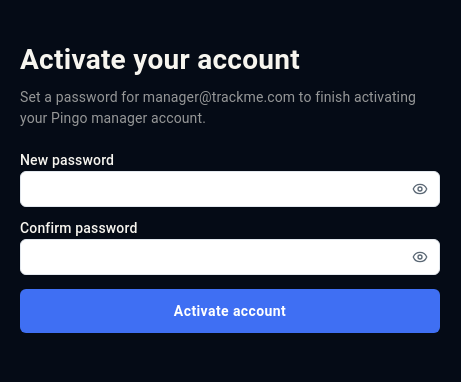
Scenario: ActivateAccountPage › shows the server error message when completeAccountSetup fails
Check: the text "Activate your account" is shown, box [20,43,300,76]
Type "brandnewpassword" into the password field labelled "New password" at (230, 189), box [20,171,440,207]
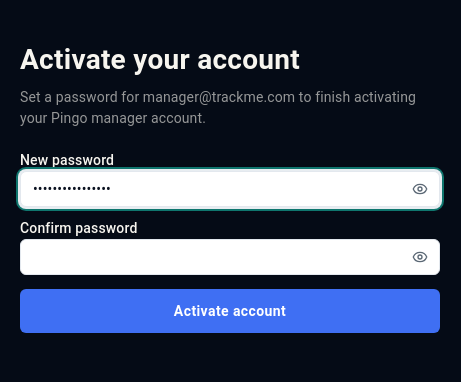
Type "brandnewpassword" into the password field labelled "Confirm password" at (230, 257), box [20,239,440,275]
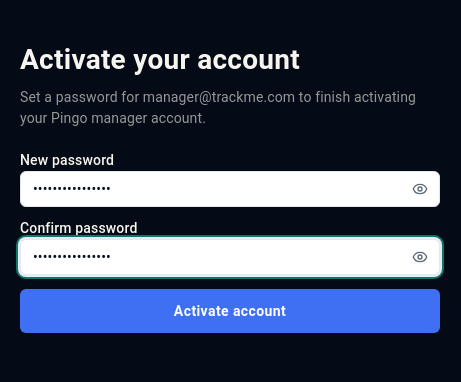
Click the button "Activate account" at (230, 311), box [20,289,440,333]
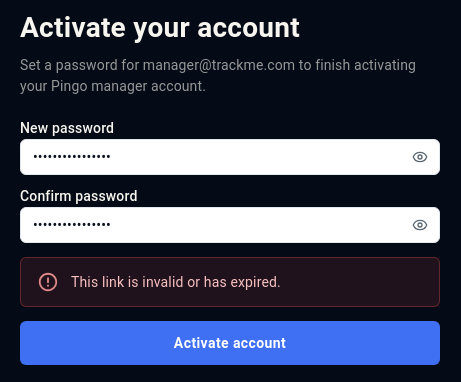
Check: the text "This link is invalid or has expired." is shown, box [71,274,281,290]
